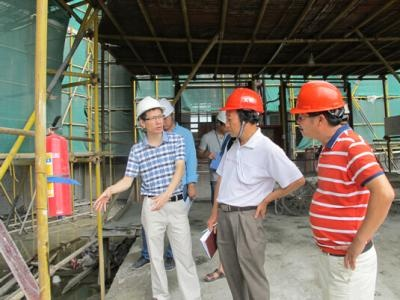red: (293, 79, 346, 143), (224, 85, 265, 140)
white: (135, 97, 164, 135), (158, 99, 175, 130)
